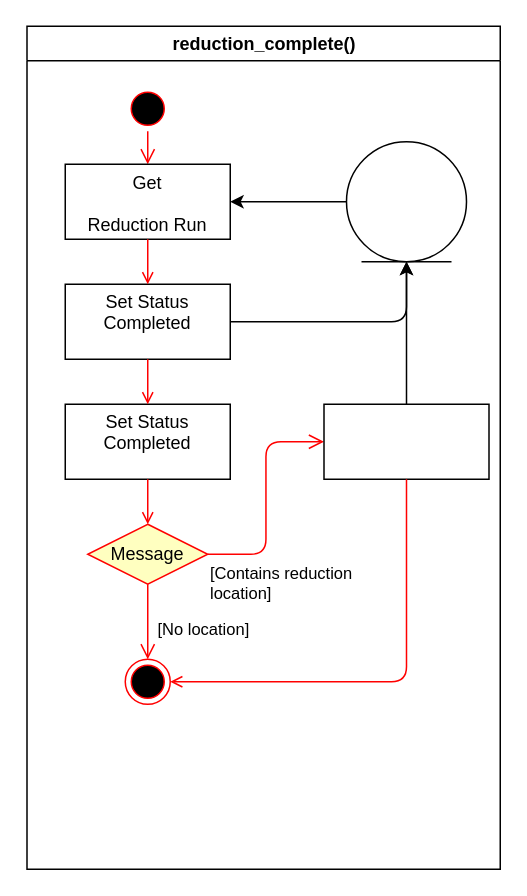
Some shapes in this 527 by 896 pixel diagram are drawn without their labels. The shapes that lost their labels are listed below. From the top down, each one's box as (x1, y1, x2, y2) in pixels, then its label:
(345, 140, 466, 262): Database
(322, 403, 489, 479): Save new Location records
